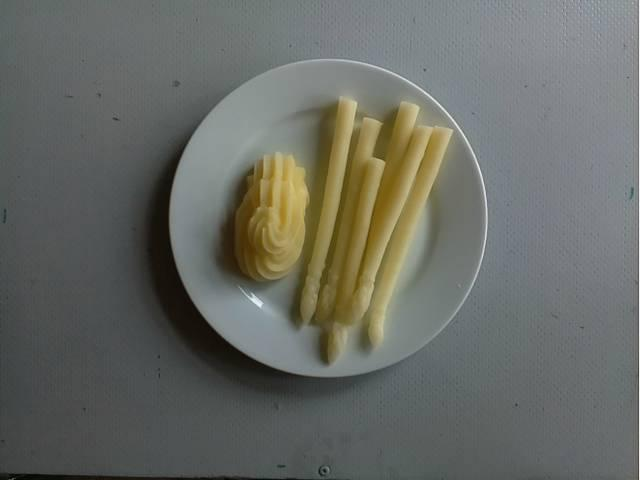Asparagus + mashed potatoes: (229, 97, 454, 366)
